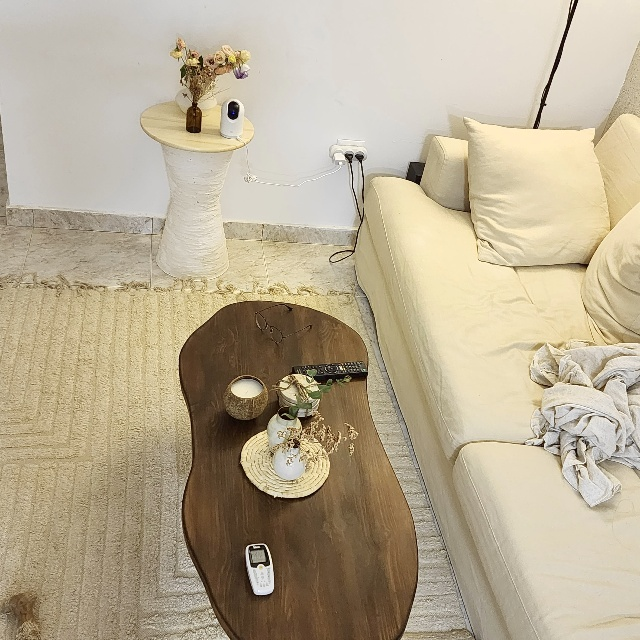glasses: (251, 301, 318, 343)
